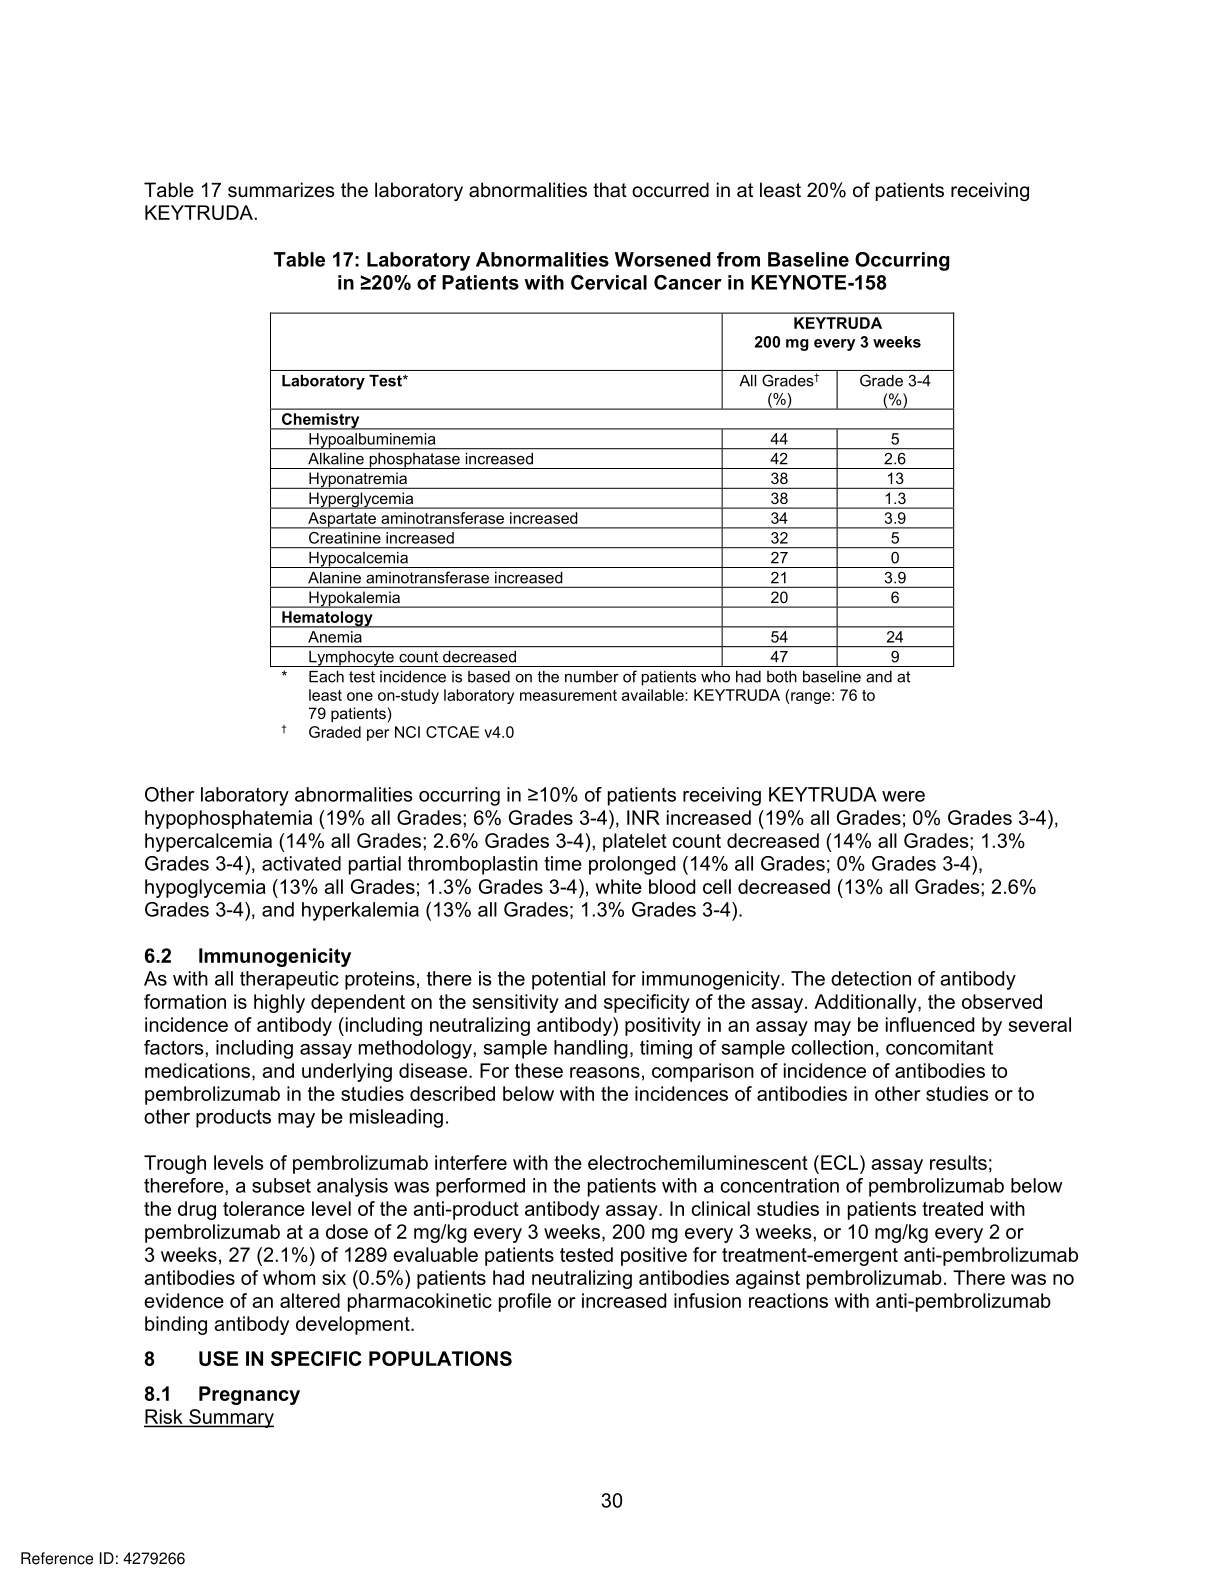merged_cells: (269, 312, 955, 669)
